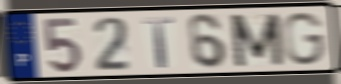2: (91, 15, 131, 73)
5: (41, 15, 85, 75)
6: (186, 12, 229, 71)
G: (280, 11, 328, 67)
M: (227, 12, 286, 69)
T: (141, 15, 176, 70)
